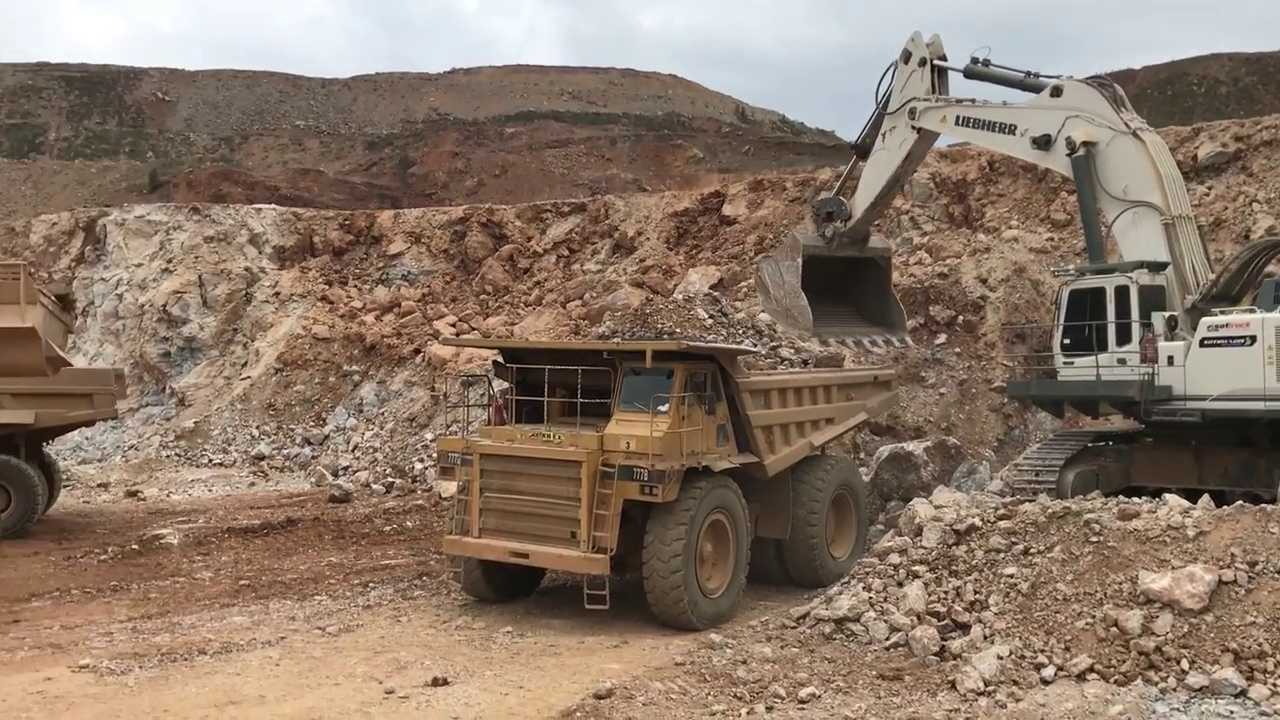dumper: (436, 335, 900, 631)
excavator: (753, 28, 1280, 509)
